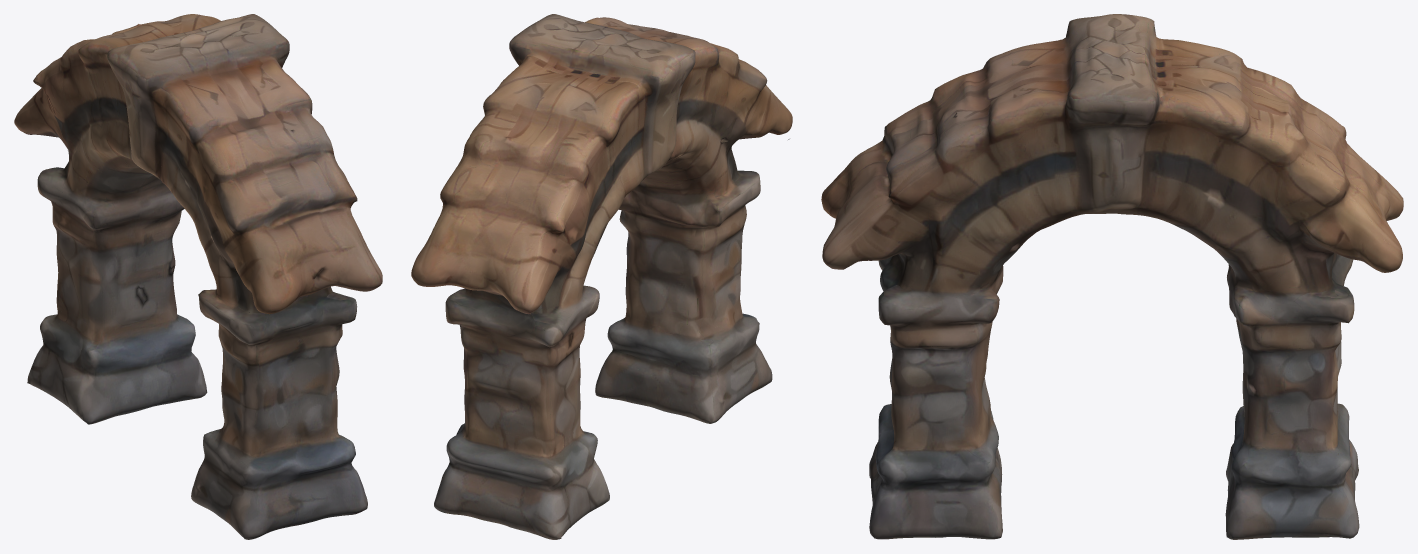
File: gate_model.fbx
3 views of the same model, side by side, from view 1: azimuth 30°, elevation 25°; view 2: azimuth 150°, elevation 25°; view 3: azimuth 270°, elevation 25° (orthographic). The views are drawn at different scales.
Visible parts, largest first — view 1: Mesh_0; view 2: Mesh_0; view 3: Mesh_0.
Boxes of the visible parts, x1,y1,x2,y2 form: Mesh_0: (14,14,382,539); Mesh_0: (411,14,792,539); Mesh_0: (821,14,1403,539).
Bounding box in the file's own units: 41.28 × 107 × 120.
Materials: 1 (1 with a texture image).
